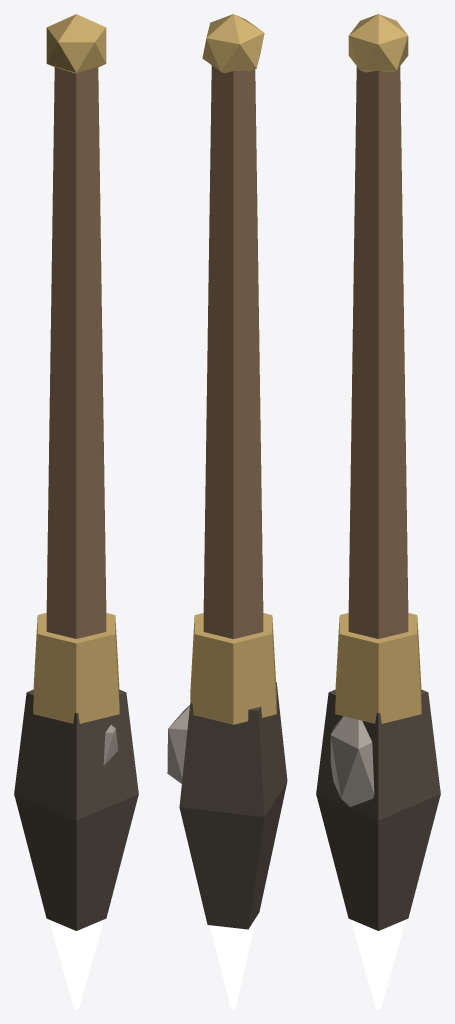
The model's file is homunculus-brush.glb.
3 renders of one model, left to right at view 1: azimuth 90°, elevation 25°; view 2: azimuth 210°, elevation 25°; view 3: azimuth 270°, elevation 25°, orthographic.
Visible parts, largest first — view 1: homunculus_brush; view 2: homunculus_brush; view 3: homunculus_brush.
Part boxes in pixels (bbox=[...]): homunculus_brush: bbox=[14, 14, 138, 1009]; homunculus_brush: bbox=[167, 14, 287, 1009]; homunculus_brush: bbox=[316, 14, 440, 1009].
Bounding box in the file's own units: 0.0507 × 0.44 × 0.05.
